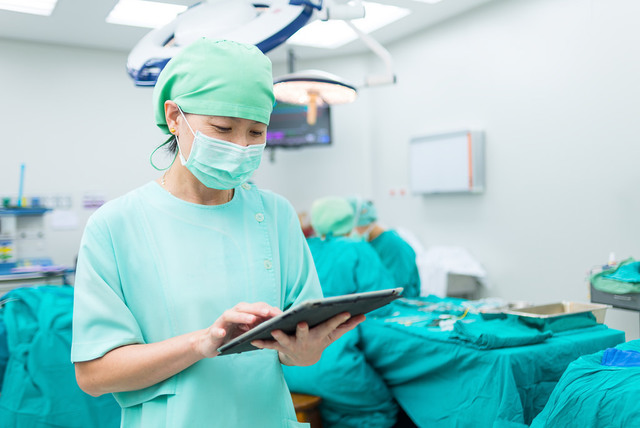mask: (197, 137, 270, 199)
